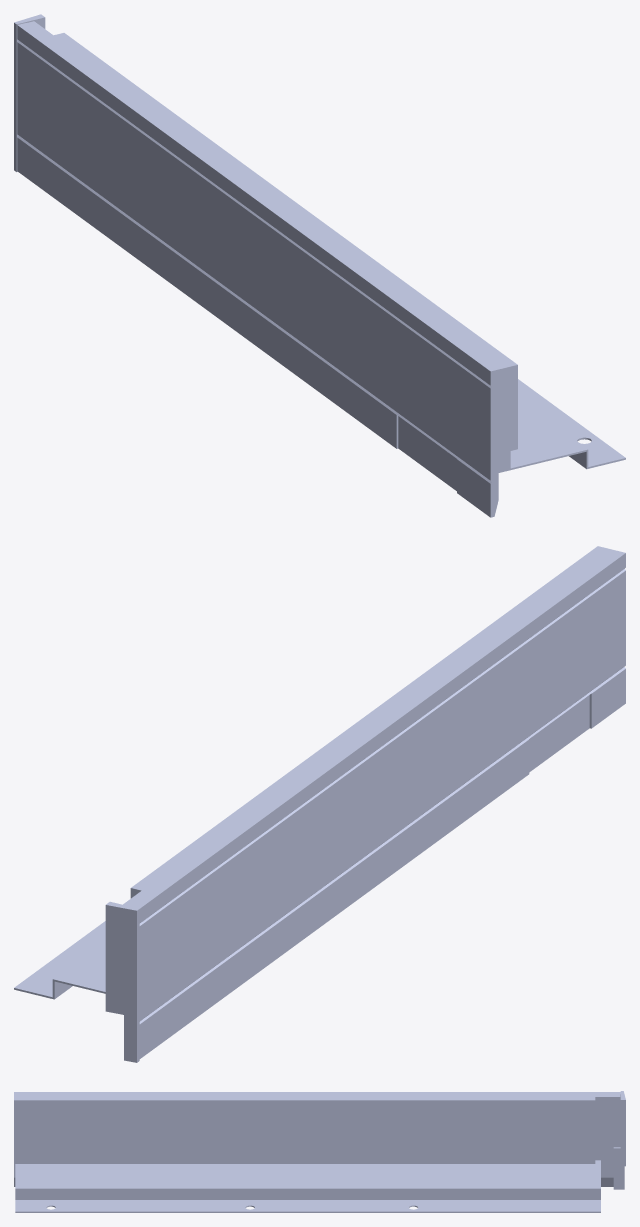
The model's file is lg-kava-N400-p.glb.
The picture shows the model from 3 angles, top to bottom: view 1: azimuth 30°, elevation 25°; view 2: azimuth 150°, elevation 25°; view 3: azimuth 270°, elevation 25°; orthographic projection. The views are drawn at different scales.
Parts seen in each view (by area): view 1: 42293145; view 2: 42293145; view 3: 42293145.
Part boxes in pixels (x1=…): 42293145: x1=14, y1=14, x2=625, y2=517; 42293145: x1=14, y1=546, x2=625, y2=1062; 42293145: x1=14, y1=1091, x2=625, y2=1212.
Size of the model in its own units: 0.0653 by 0.0672 by 0.3935.
